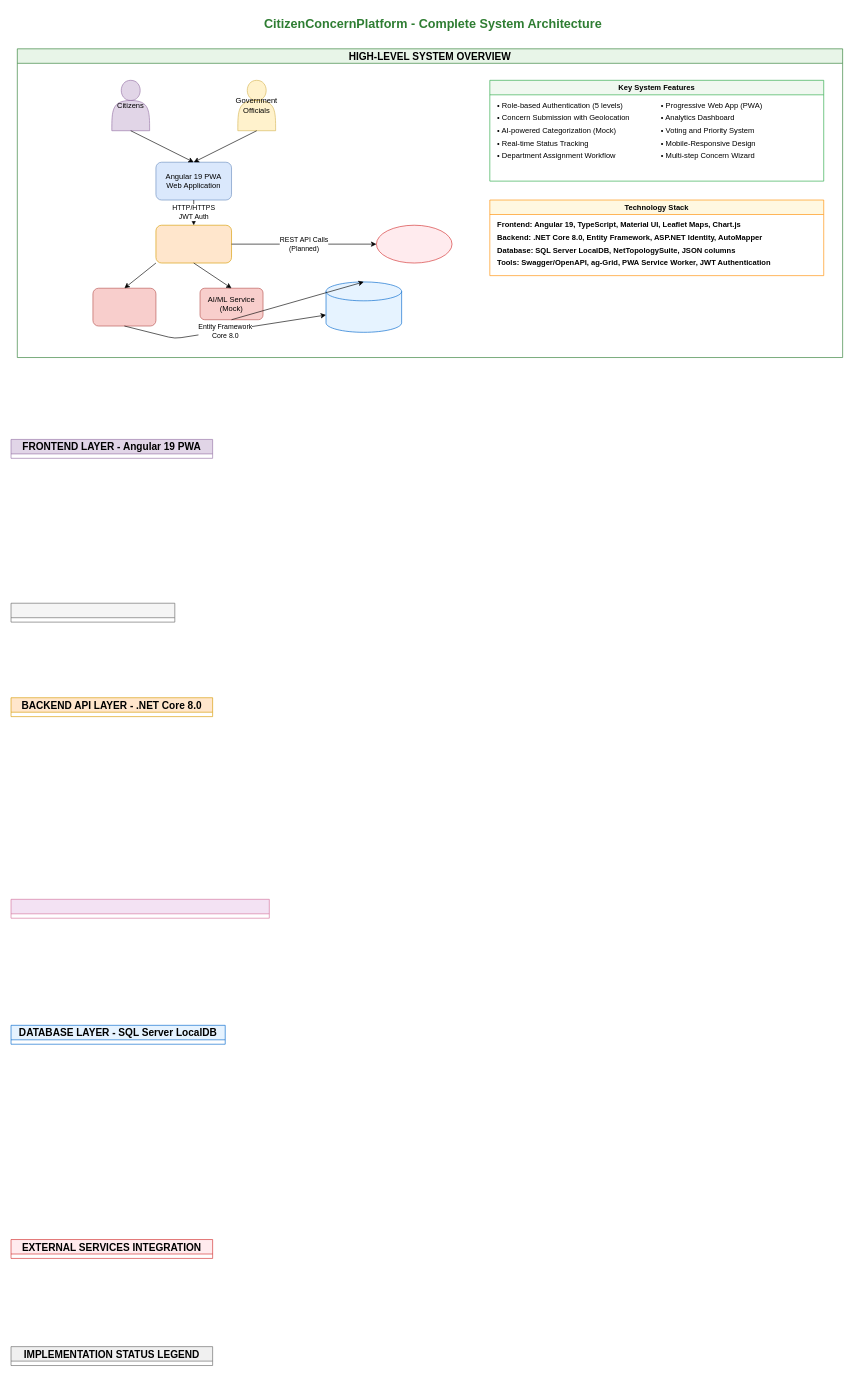
This 854x1377 diagram has some shape labels left out. Each missing label, with the centre of its shape:
".NET Core 8.0 REST API" goes at point 193,244.
"API COMMUNICATION LAYER" goes at point 92,612.
"Business Logic Services" goes at point 124,307.
"DATA ACCESS LAYER - Entity Framework Core 8.0" goes at point 139,908.
"External Services (Email, Maps, etc.)" goes at point 414,244.
"SQL Server Database" goes at point 363,306.
